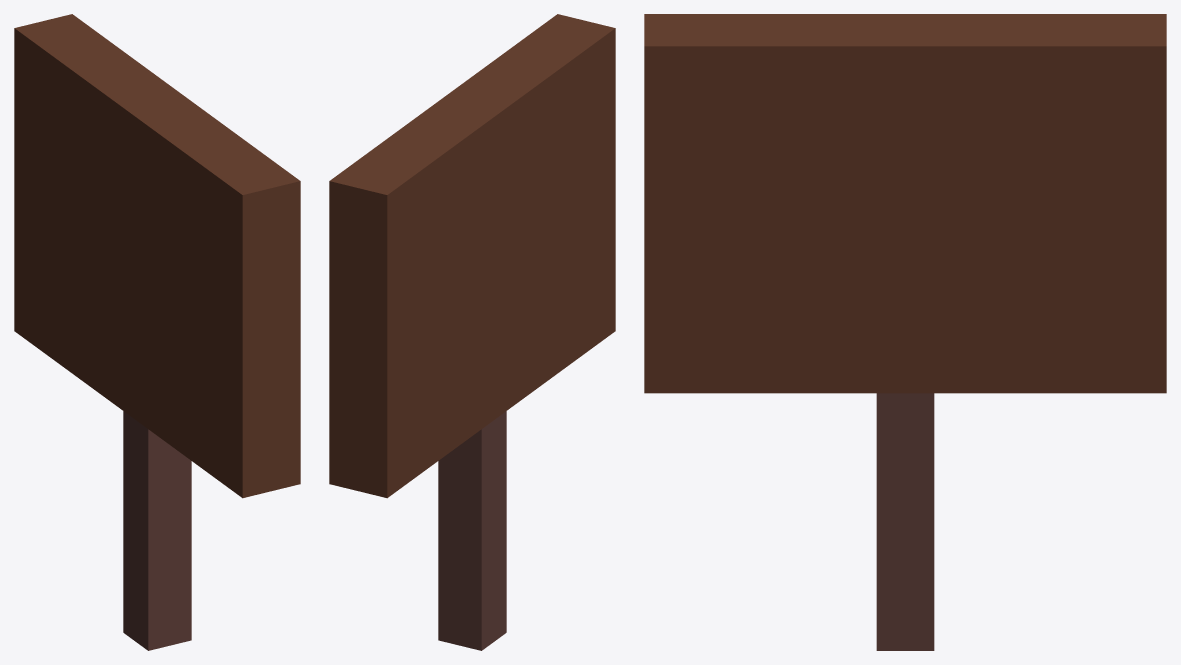
Rendered from skylt.fbx.
3 views of the same model, side by side, from view 1: azimuth 30°, elevation 25°; view 2: azimuth 150°, elevation 25°; view 3: azimuth 270°, elevation 25° (orthographic). The views are drawn at different scales.
Visible parts, largest first — view 1: Cube, Cube.001; view 2: Cube, Cube.001; view 3: Cube, Cube.001.
Boxes of the visible parts, bbox=[...] form: Cube: bbox=[14, 14, 300, 498]; Cube.001: bbox=[123, 411, 191, 650]; Cube: bbox=[329, 14, 615, 498]; Cube.001: bbox=[438, 411, 506, 650]; Cube: bbox=[644, 14, 1166, 393]; Cube.001: bbox=[876, 393, 934, 650].
Size of the model in its own units: 80 by 702 by 546.
